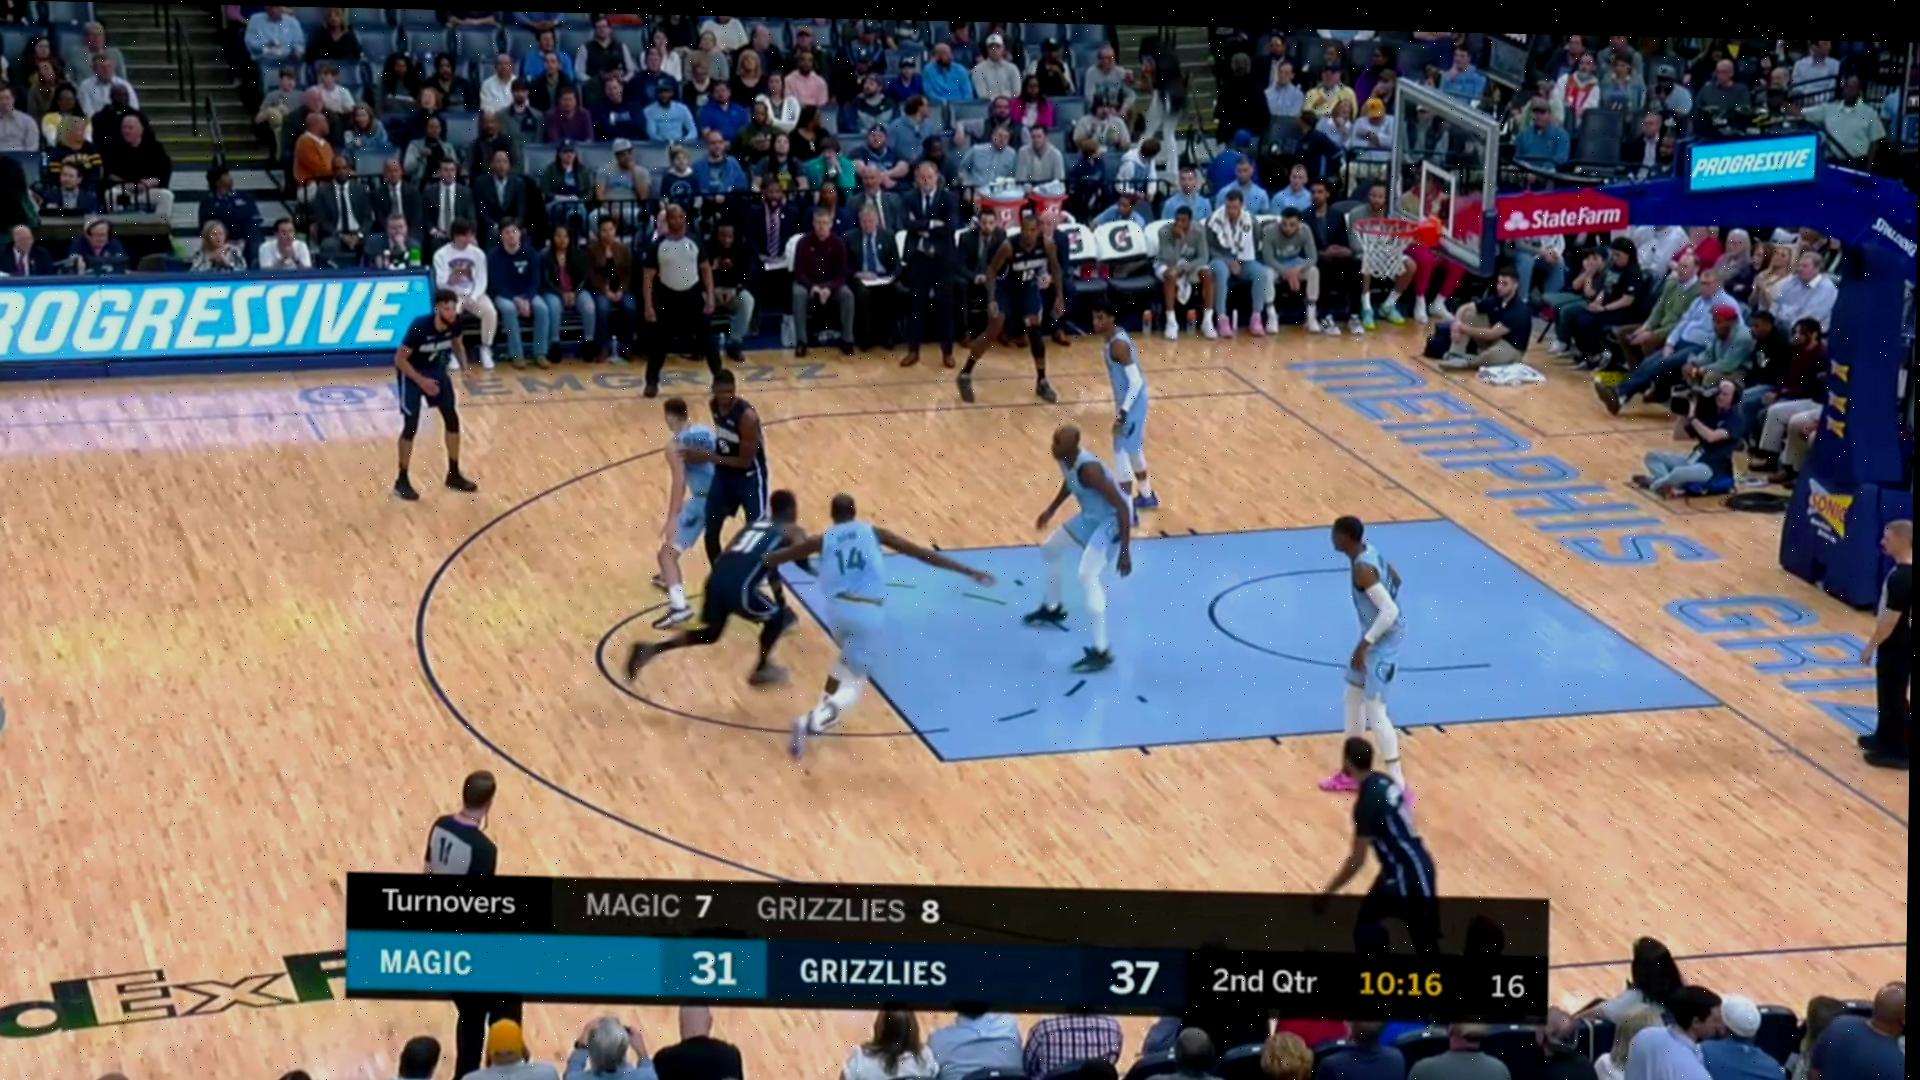no_foul: (653, 368, 764, 551)
